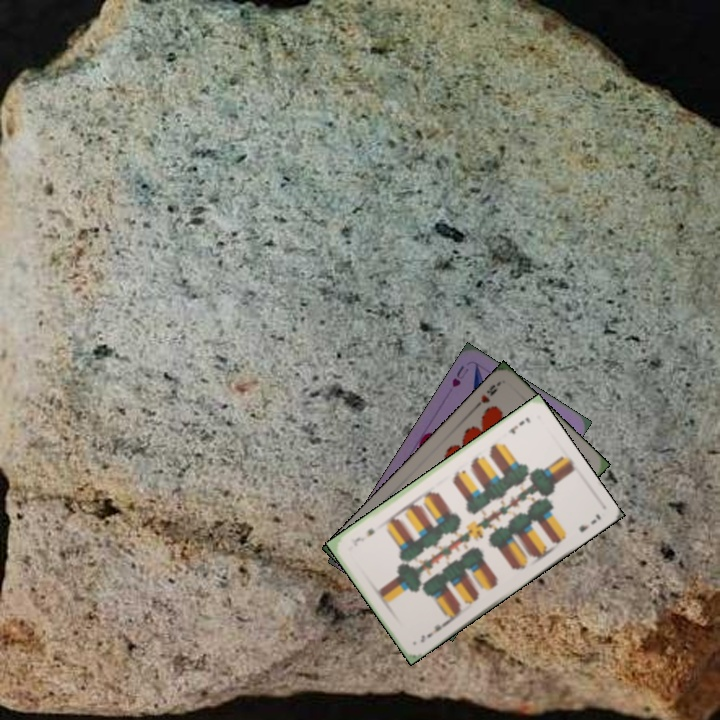E7: (416, 618, 450, 645), (505, 413, 533, 437)
H9: (470, 380, 500, 411)
HU: (448, 361, 472, 390)
